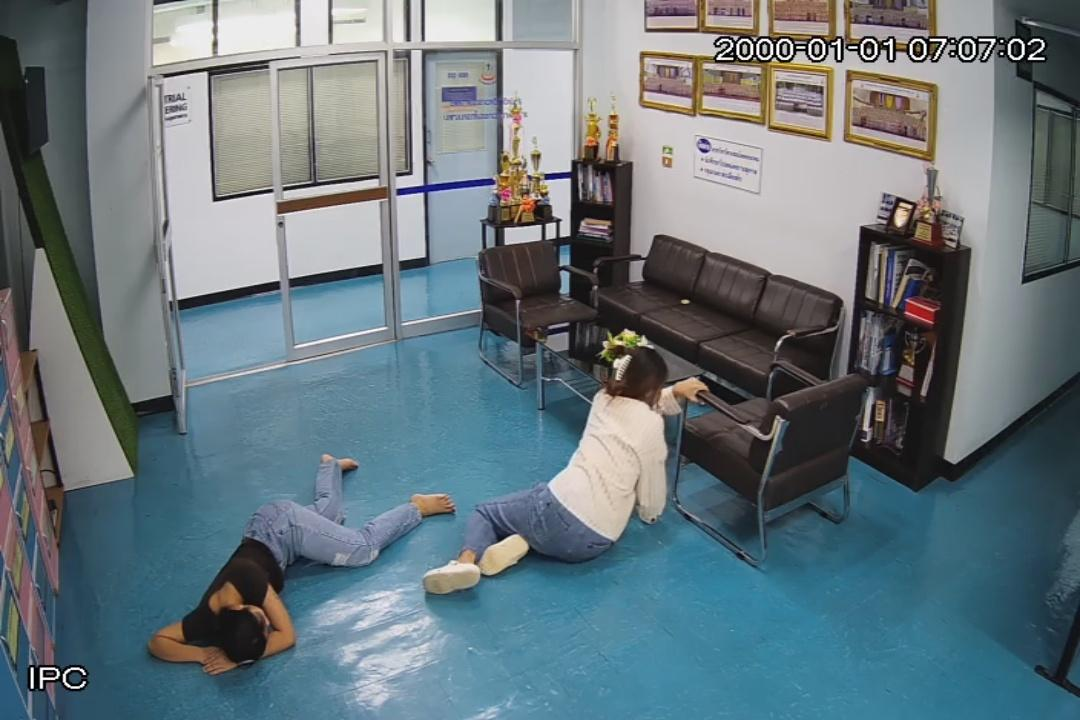fall: (423, 351, 694, 602), (150, 458, 456, 666)
